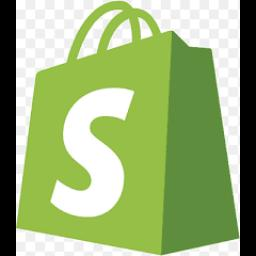s: (30, 79, 158, 231)
